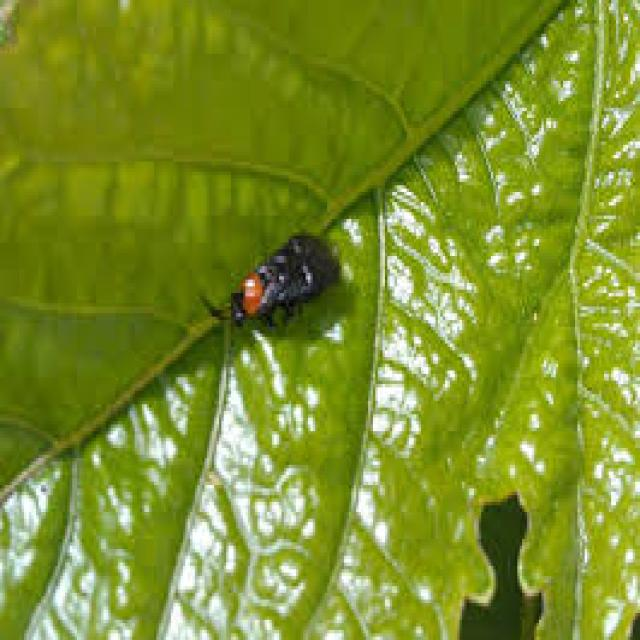Saw Fly: (194, 232, 352, 342)
